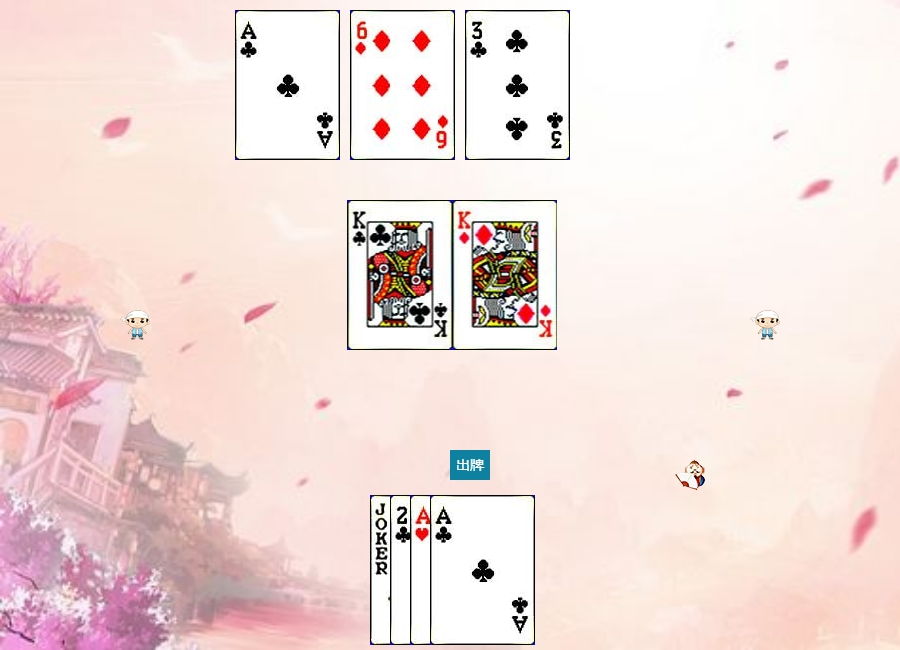13~1: (453, 200, 558, 350)
13~2: (348, 200, 453, 350)
14~2: (235, 10, 340, 160), (430, 495, 535, 645)
14~3: (410, 495, 515, 645)
15~2: (390, 495, 495, 645)
17~3: (370, 495, 475, 645)
3~2: (465, 10, 570, 160)
6~1: (350, 10, 455, 160)
